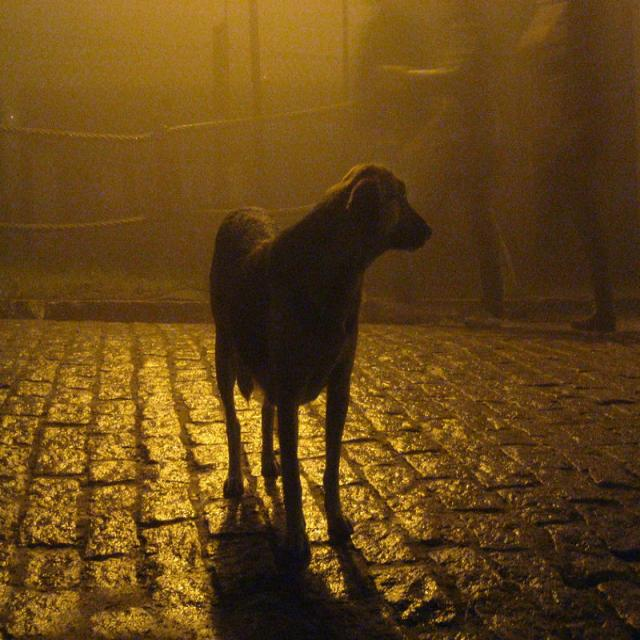Dog: (205, 134, 458, 571)
